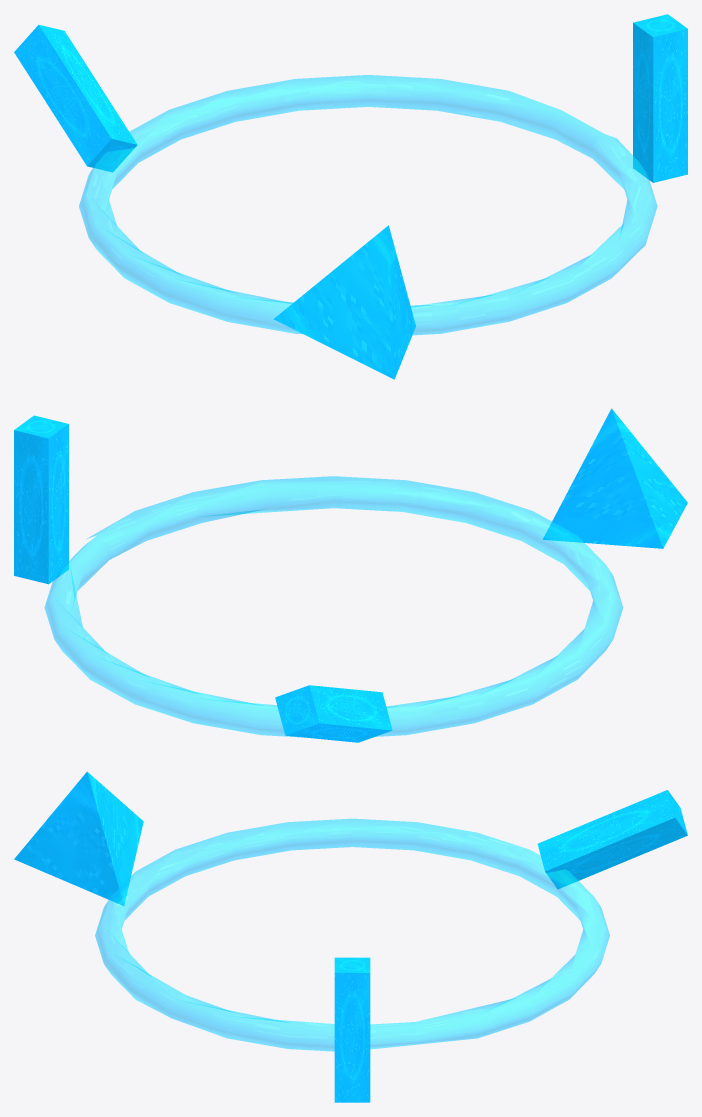
File: miranda-captain-log.collider.glb
The picture shows the model from 3 angles, top to bottom: view 1: azimuth 30°, elevation 25°; view 2: azimuth 150°, elevation 25°; view 3: azimuth 270°, elevation 25°; orthographic projection. The views are drawn at different scales.
Visible parts, largest first — view 1: story-marker-cyan-transparent|#00ccff|#00ccff|0.38|1|0.04|0., story-marker-cyan-body; view 2: story-marker-cyan-transparent|#00ccff|#00ccff|0.38|1|0.04|0., story-marker-cyan-body; view 3: story-marker-cyan-transparent|#00ccff|#00ccff|0.38|1|0.04|0., story-marker-cyan-body.
Part boxes in pixels (x1,y1,x2,y2): story-marker-cyan-transparent|#00ccff|#00ccff|0.38|1|0.04|0.: (79, 75, 657, 335); story-marker-cyan-body: (14, 14, 687, 379); story-marker-cyan-transparent|#00ccff|#00ccff|0.38|1|0.04|0.: (44, 476, 623, 737); story-marker-cyan-body: (14, 408, 687, 742); story-marker-cyan-transparent|#00ccff|#00ccff|0.38|1|0.04|0.: (95, 818, 609, 1051); story-marker-cyan-body: (14, 771, 687, 1102).
Bounding box in the file's own units: 0.805 × 0.217 × 0.942.
Materials: 2 (2 with a texture image).
